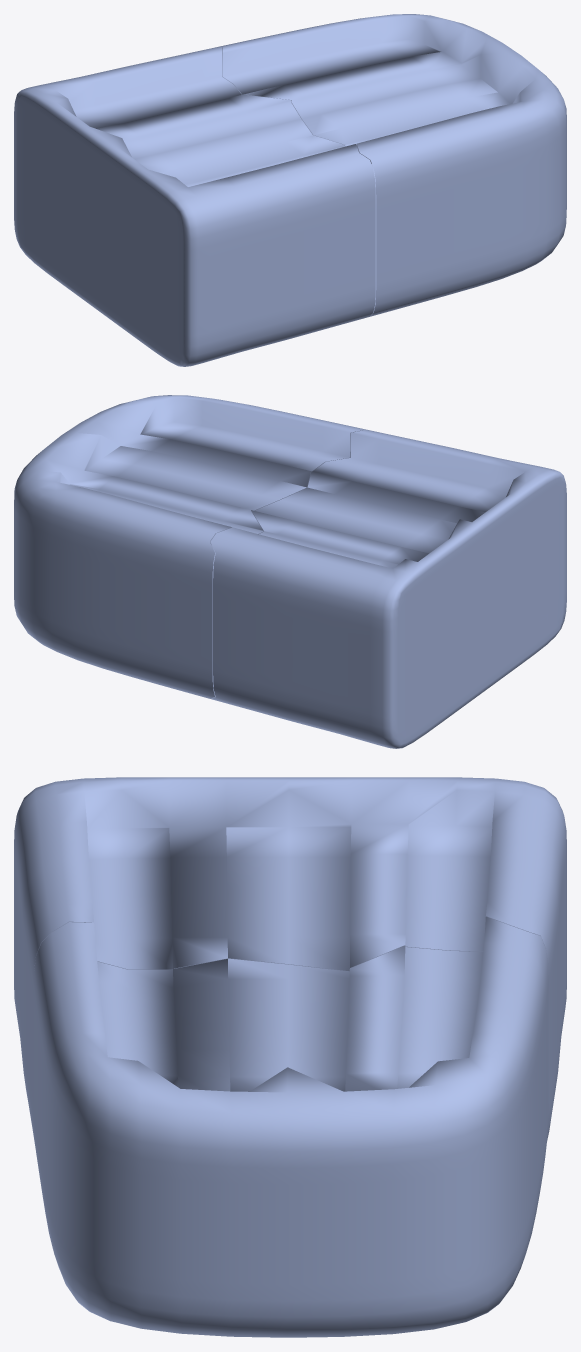
The model's file is SlimeDestruction.fbx.
The picture shows the model from 3 angles, top to bottom: view 1: azimuth 30°, elevation 25°; view 2: azimuth 150°, elevation 25°; view 3: azimuth 270°, elevation 25°; orthographic projection. The views are drawn at different scales.
Parts seen in each view (by area): view 1: Slime.002, Slime.003; view 2: Slime.002, Slime.003; view 3: Slime.003, Slime.002.
Part boxes in pixels (<box>): Slime.002: <box>14,47,375,366</box>; Slime.003: <box>217,14,566,316</box>; Slime.002: <box>210,429,566,748</box>; Slime.003: <box>14,395,364,698</box>; Slime.003: <box>34,916,548,1337</box>; Slime.002: <box>14,777,566,1145</box>.
Bounding box in the file's own units: 0.4406 × 0.1682 × 0.3147.
